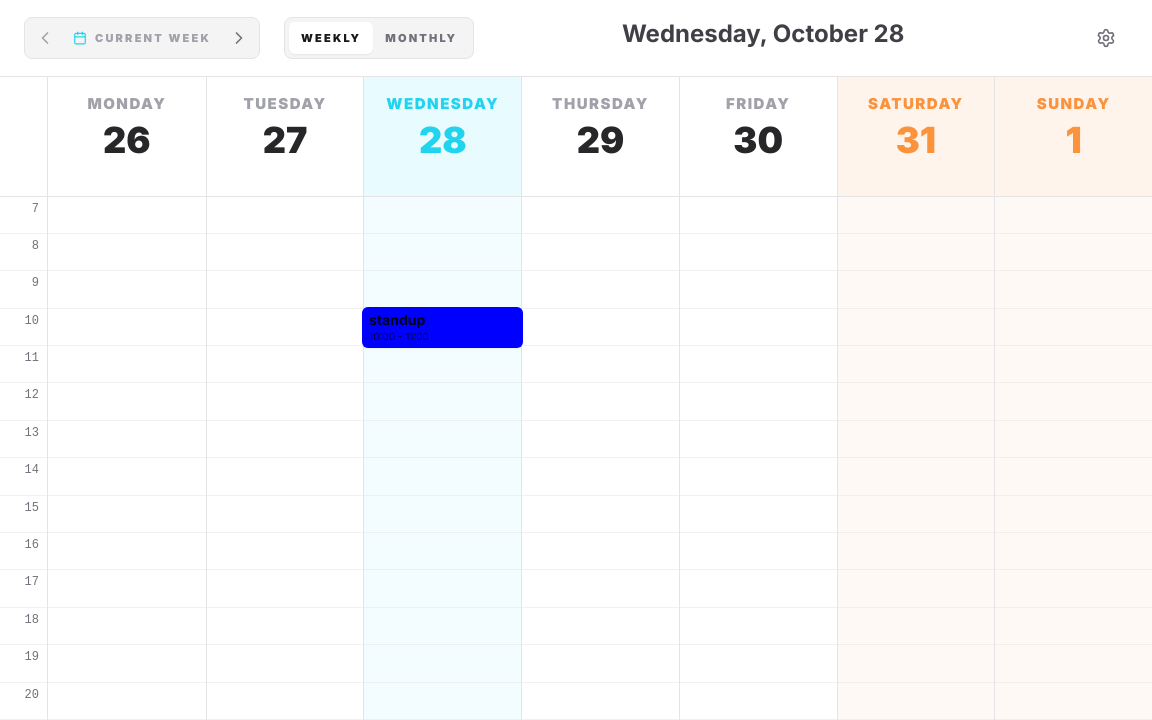
Test: Dashboard: a month never loaded while Google cannot be reached › Next Month into it: a grid past what October's read covered is empty and says so
Click the button with test id "monthly-view-toggle" at (421, 38), box [373,22,469,54]
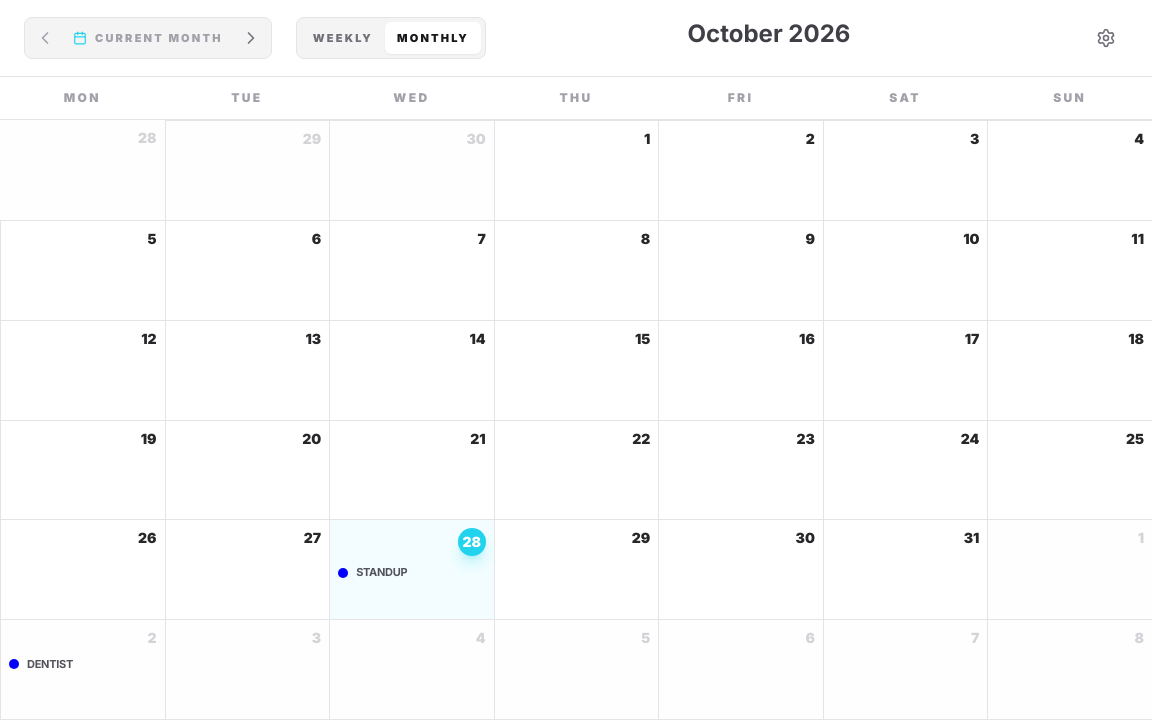
Now the text "dentist" is shown, box [27,656,73,673]
Click the button with test id "next-week-button" at (251, 38), box [235,22,267,54]
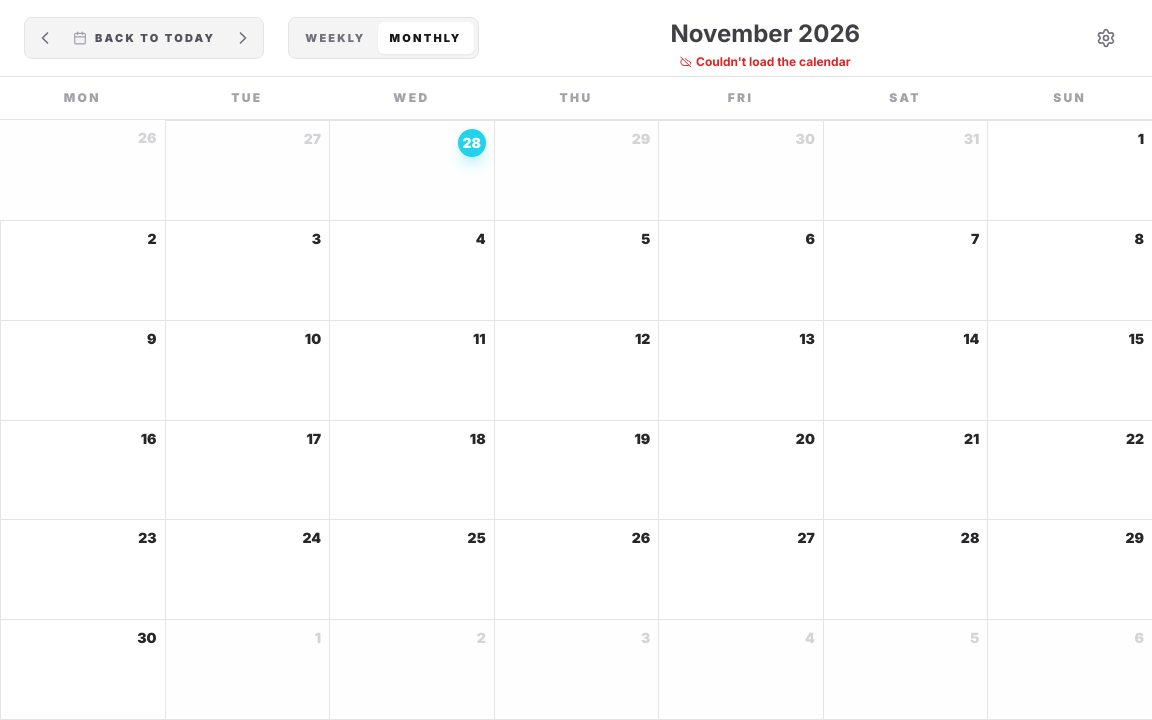
Now the button "standup" is gone
Now the button "dentist" is gone
Now the element with test id "calendar-read-notice" reads "Couldn't load the calendar", box [696,54,850,69]
